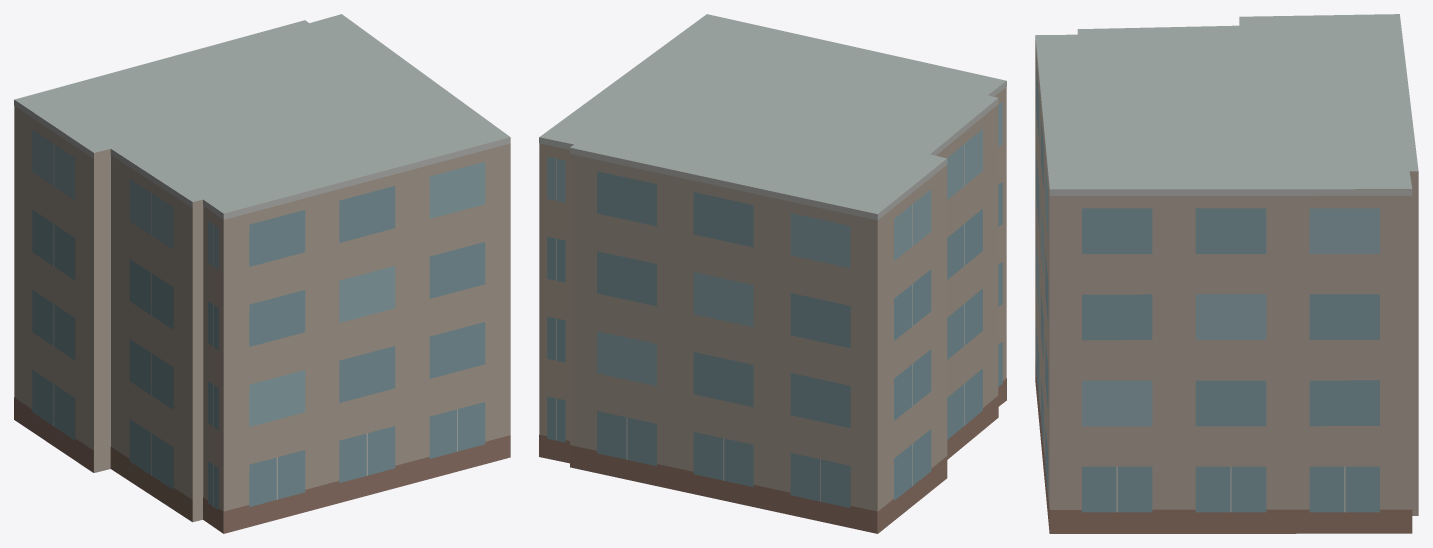
File: survey-upis-32727590.glb
3 views of the same model, side by side, from view 1: azimuth 30°, elevation 25°; view 2: azimuth 150°, elevation 25°; view 3: azimuth 270°, elevation 25° (orthographic). The views are drawn at different scales.
Parts seen in each view (by area): view 1: survey-upis-32727590.tmp; view 2: survey-upis-32727590.tmp; view 3: survey-upis-32727590.tmp.
Boxes of the visible parts, x1,y1,x2,y2 form: survey-upis-32727590.tmp: [14, 14, 510, 533]; survey-upis-32727590.tmp: [539, 14, 1006, 533]; survey-upis-32727590.tmp: [1035, 14, 1418, 533].
Size of the model in its own units: 13.76 by 12.6 by 12.71.
